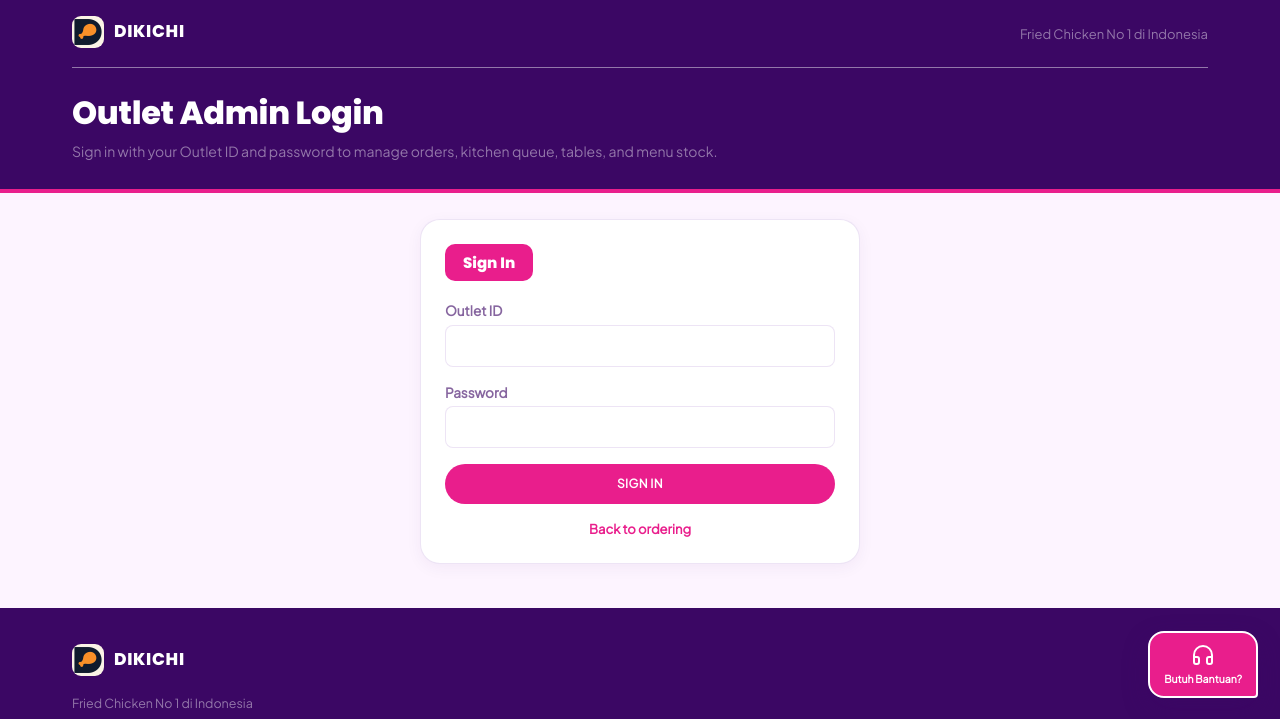
Test: LoginPage › explains the rate limit that Nginx answers with a non-JSON 429
In the field labelled "Outlet ID": (640, 346) [445,325,835,367], type "OUT-01"
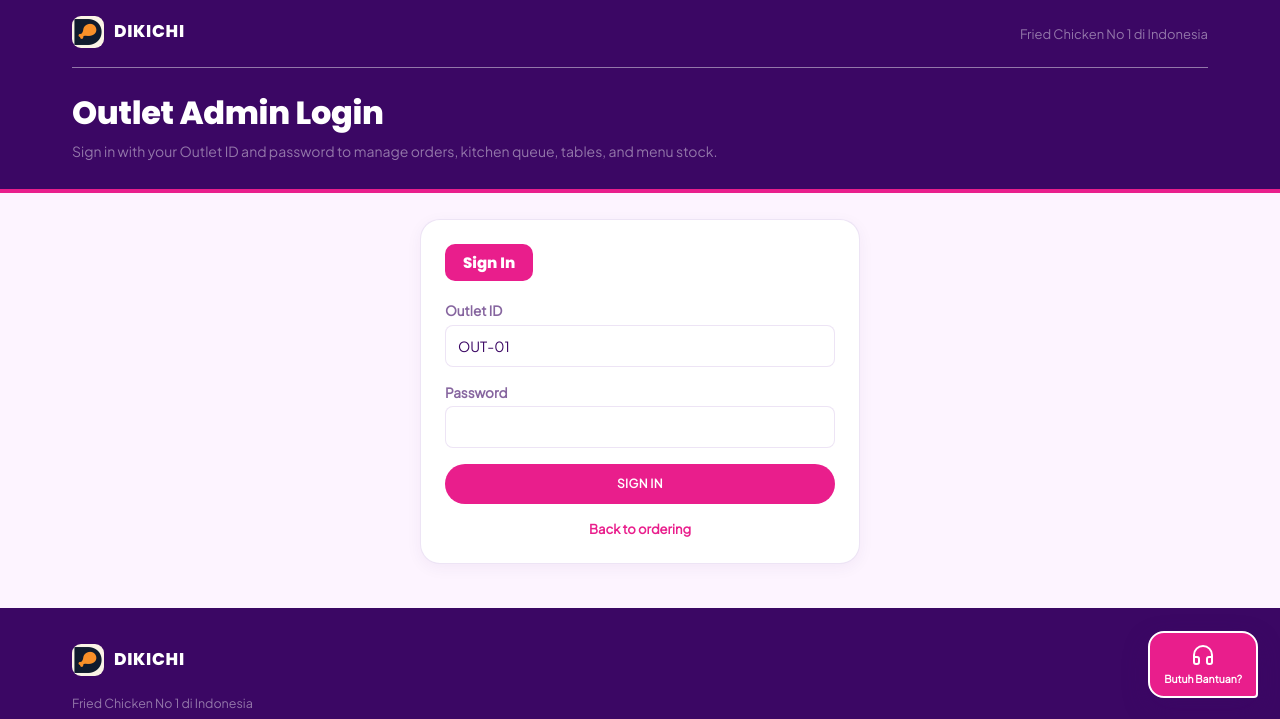
In the password field labelled "Password": (640, 428) [445,406,835,448], type "secret"
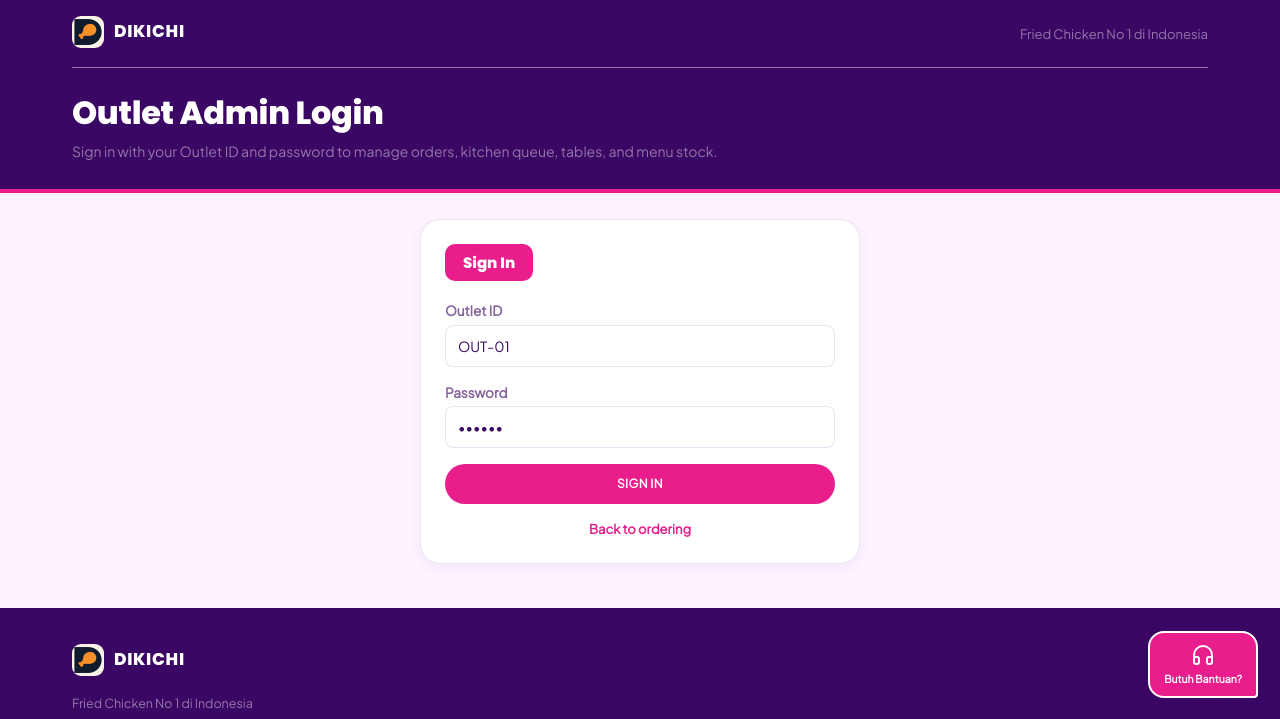
Click the button "Sign In": click(640, 484) [445,464,835,504]
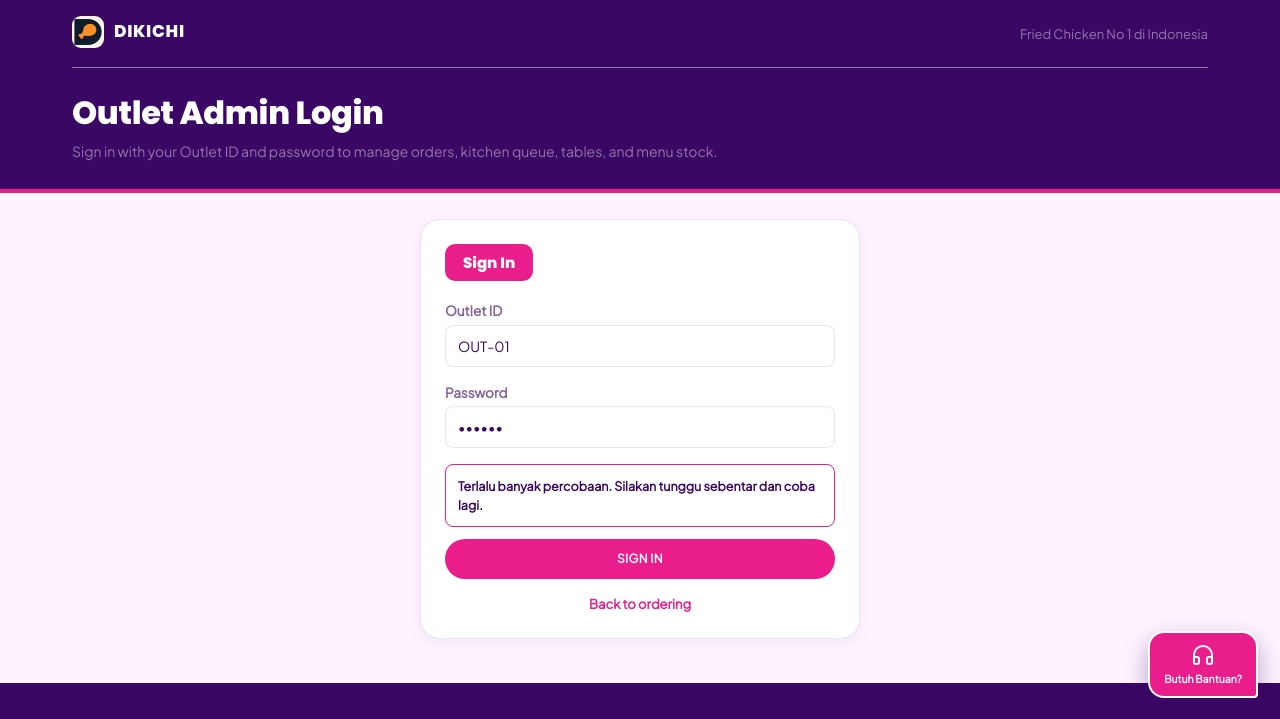
Result: the message shows "Terlalu banyak percobaan" at [458,478,815,513]
